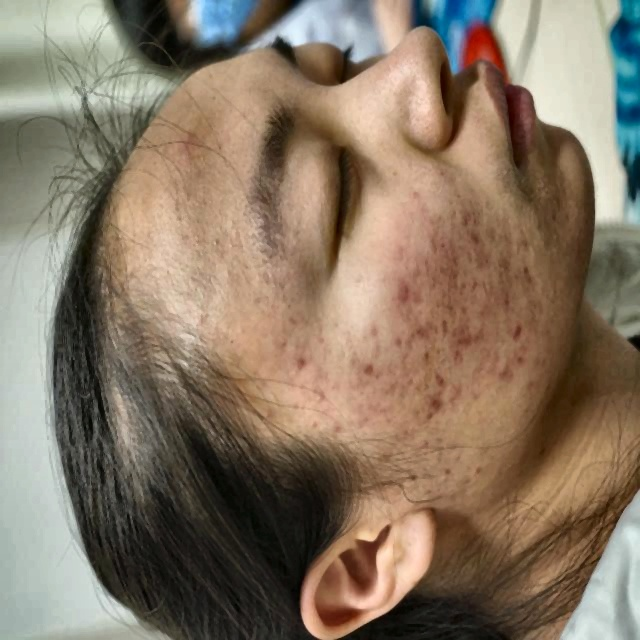pustule: (386, 278, 418, 318), (451, 323, 481, 353), (522, 253, 542, 296), (508, 320, 534, 345), (499, 354, 517, 389), (420, 316, 441, 342), (417, 387, 442, 408), (496, 286, 510, 314)
